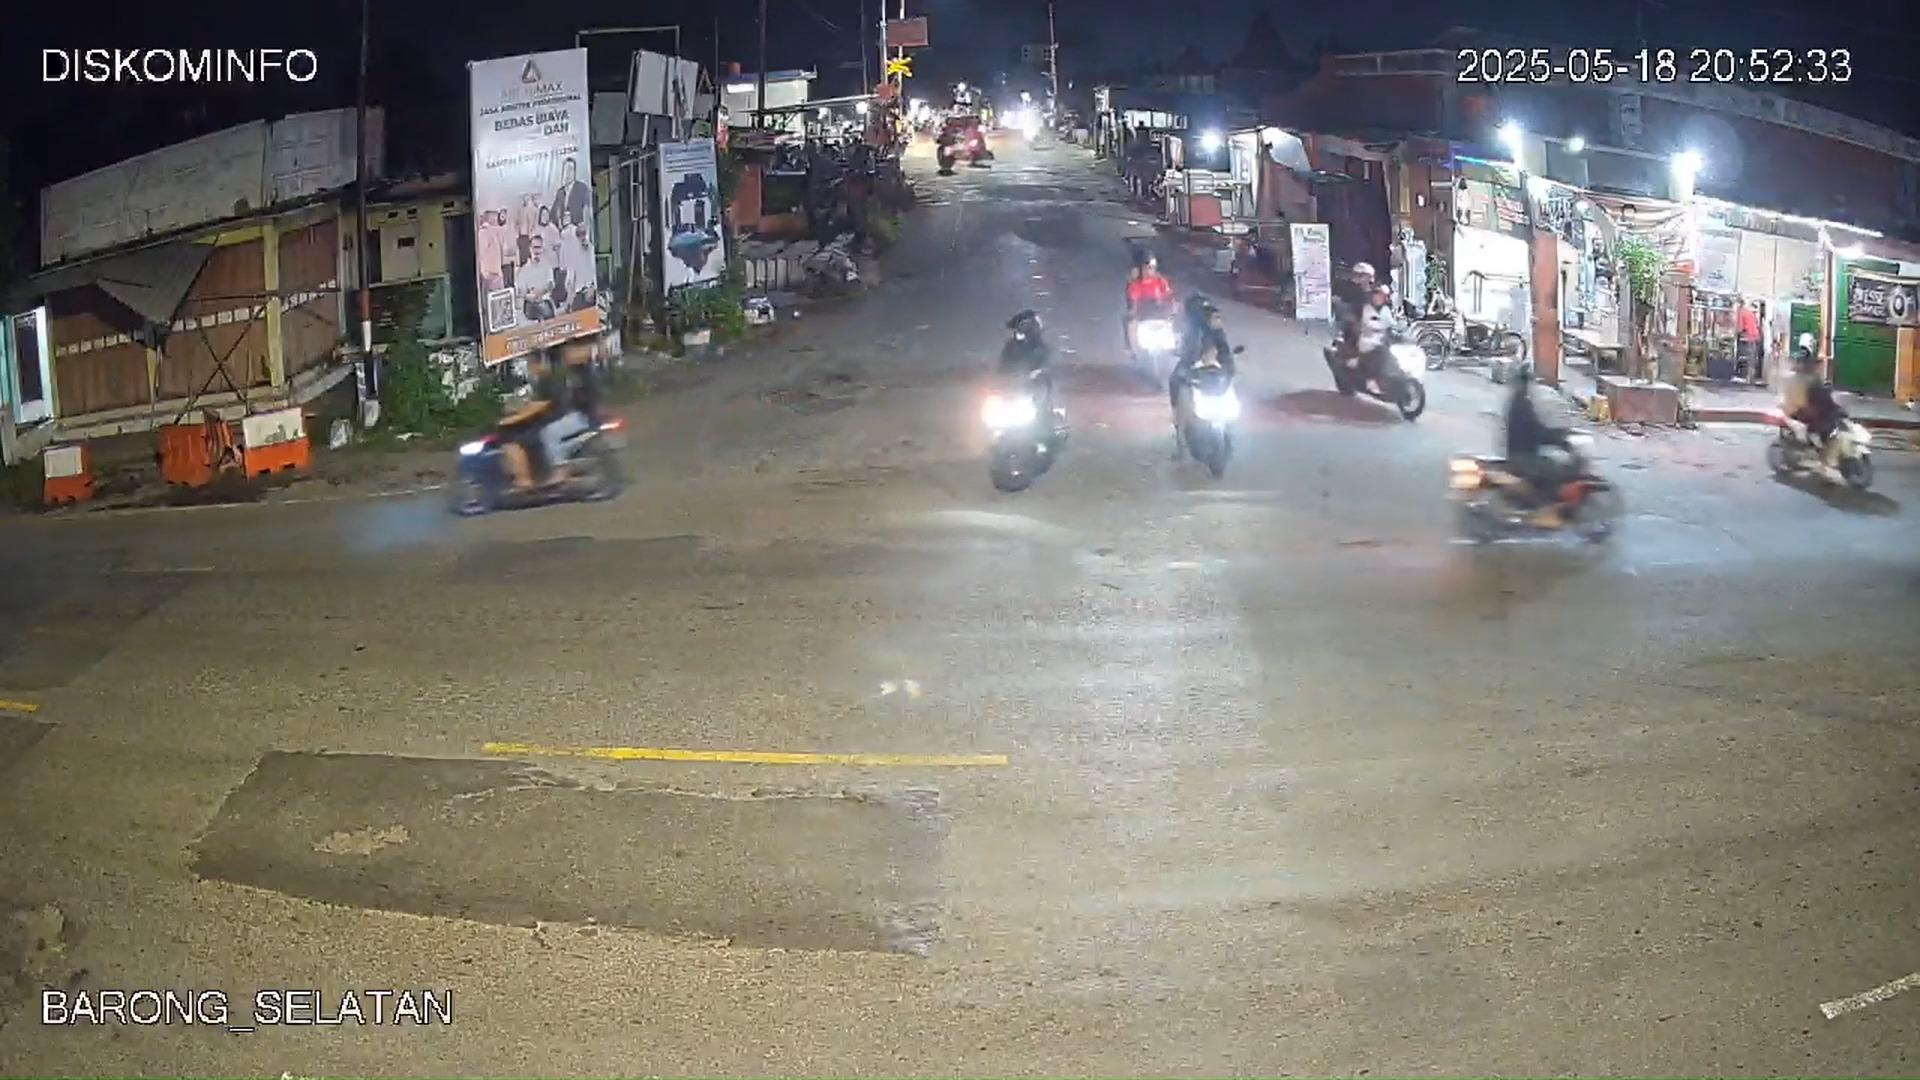Motor: (1449, 360, 1614, 549), (1292, 255, 1390, 409), (985, 316, 1069, 488)
